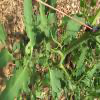Tomato leaf: (4, 60, 30, 99), (22, 1, 39, 48), (59, 17, 86, 45), (38, 1, 55, 34), (47, 66, 59, 93), (77, 45, 89, 69), (0, 20, 7, 47), (12, 41, 24, 55)
